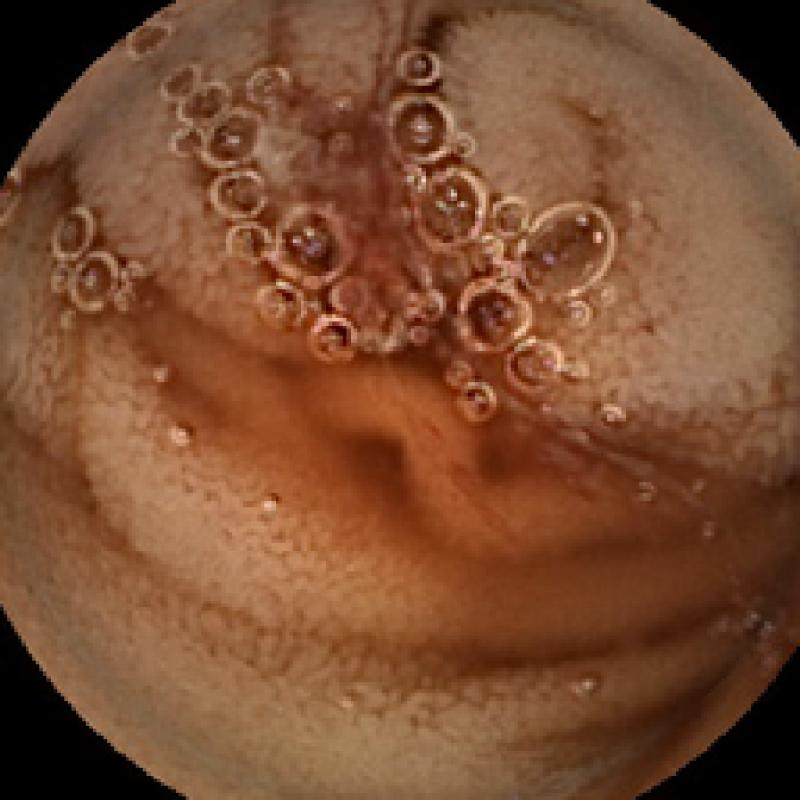bleeding: (242, 72, 451, 353)
